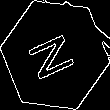N_NE: (26, 27, 84, 83)
